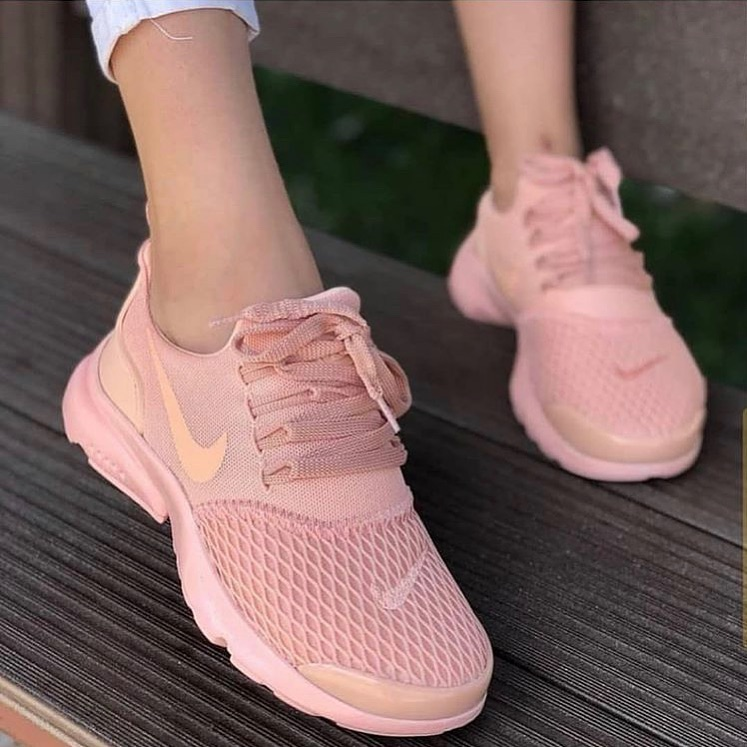nike: (143, 338, 233, 485)
